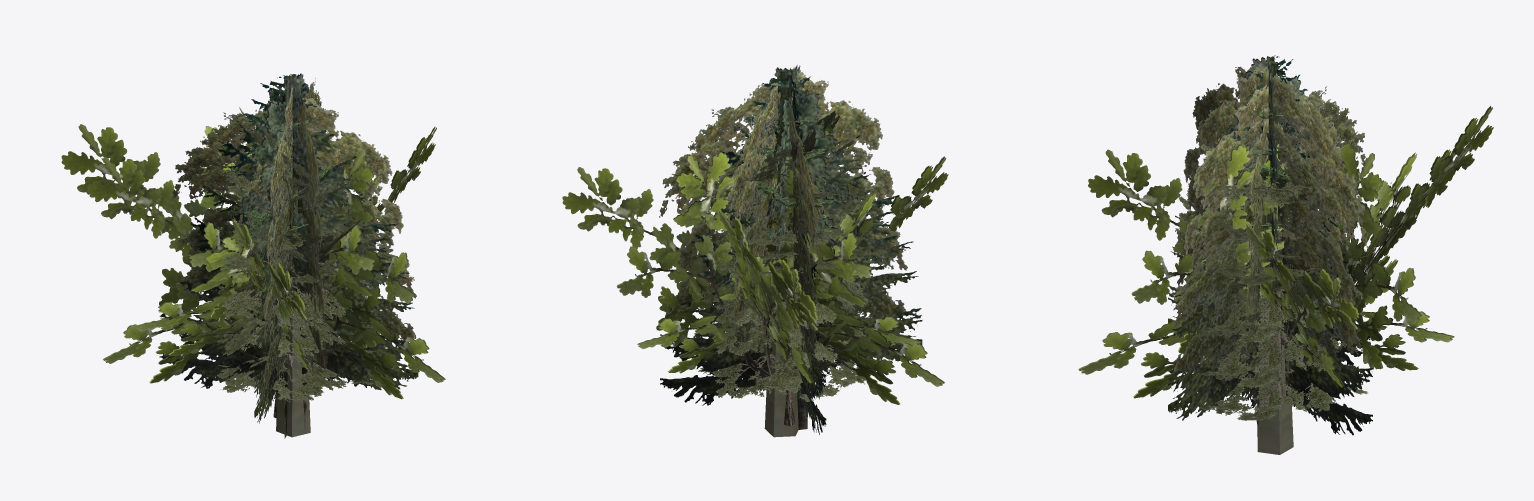
Rendered from forest_trees.glb.
3 views of the same model, side by side, from view 1: azimuth 30°, elevation 25°; view 2: azimuth 150°, elevation 25°; view 3: azimuth 270°, elevation 25° (orthographic). The views are drawn at different scales.
Visible parts, largest first — view 1: FOREST_TREE_4, FOREST_TREE_3, FOREST_TREE_2, FOREST_TREE_0; view 2: FOREST_TREE_4, FOREST_TREE_3, FOREST_TREE_2, FOREST_TREE_0, FOREST_TREE_1; view 3: FOREST_TREE_3, FOREST_TREE_4, FOREST_TREE_2, FOREST_TREE_0.
Boxes of the visible parts, box(x1,y1,x2,y2) form: FOREST_TREE_4: box(61, 124, 445, 399); FOREST_TREE_3: box(171, 74, 416, 437); FOREST_TREE_2: box(159, 74, 418, 438); FOREST_TREE_0: box(237, 73, 330, 418); FOREST_TREE_4: box(562, 150, 948, 404); FOREST_TREE_3: box(659, 69, 907, 437); FOREST_TREE_2: box(660, 68, 922, 434); FOREST_TREE_0: box(742, 65, 853, 425); FOREST_TREE_1: box(764, 81, 820, 398); FOREST_TREE_3: box(1173, 61, 1367, 454); FOREST_TREE_4: box(1078, 106, 1493, 398); FOREST_TREE_2: box(1168, 55, 1372, 444); FOREST_TREE_0: box(1225, 57, 1318, 290).
Size of the model in its own units: 1.27 by 1 by 1.17.
2 materials, 2 textured.
